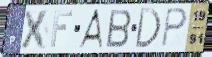A: (77, 8, 104, 49)
B: (105, 8, 133, 49)
D: (133, 7, 162, 50)
F: (49, 10, 75, 49)
P: (161, 7, 189, 49)
X: (19, 8, 53, 50)
